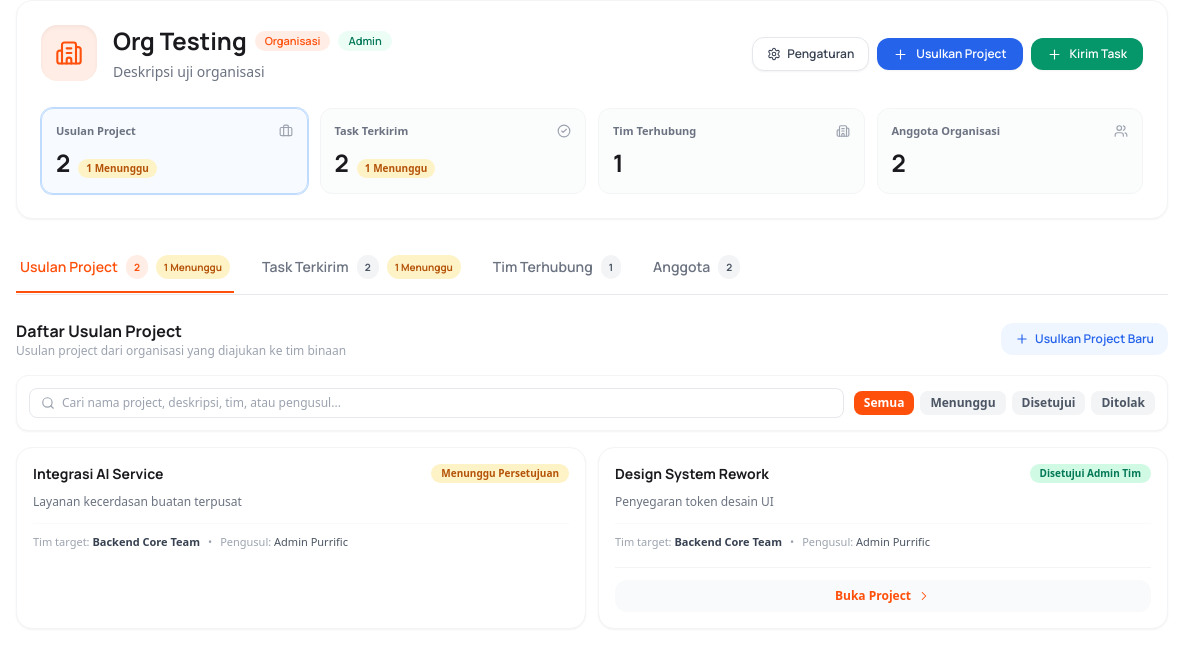
Test: OrganizationPage › renders organization details with interactive KPI cards and tabs
The width and height of the screenshot is (1185, 649).
Expected: the heading "Org Testing" is shown, [113,25,247,57]
Expected: the text "Deskripsi uji organisasi" is shown, [113,62,264,81]
Klik KPI Task Terkirim untuk beralih tab
Click the button with aria-label "Lihat Task Terkirim" at (371, 130), box [320,108,586,194]
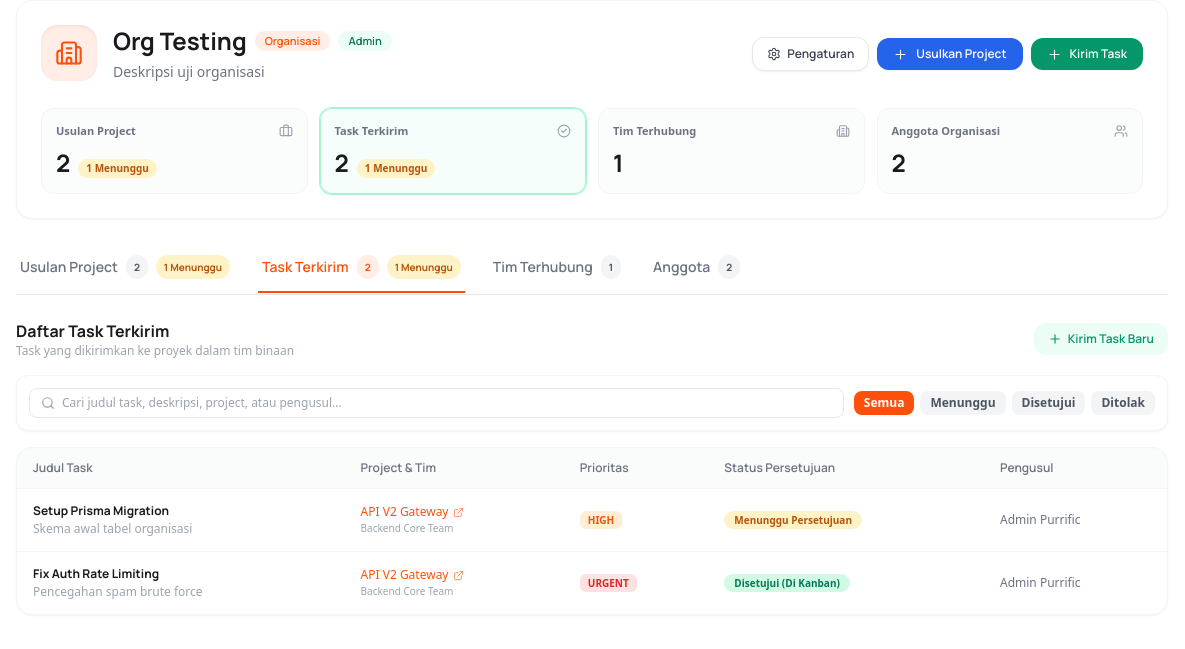
Expected: the heading "Daftar Task Terkirim" is shown, [16,320,169,342]
Expected: the text "Setup Prisma Migration" is shown, [33,502,169,519]
Expected: the text "Fix Auth Rate Limiting" is shown, [33,565,159,582]
Klik KPI Tim Terhubung
Click the button with aria-label "Lihat Tim Terhubung" at (655, 130), box [598,108,864,194]
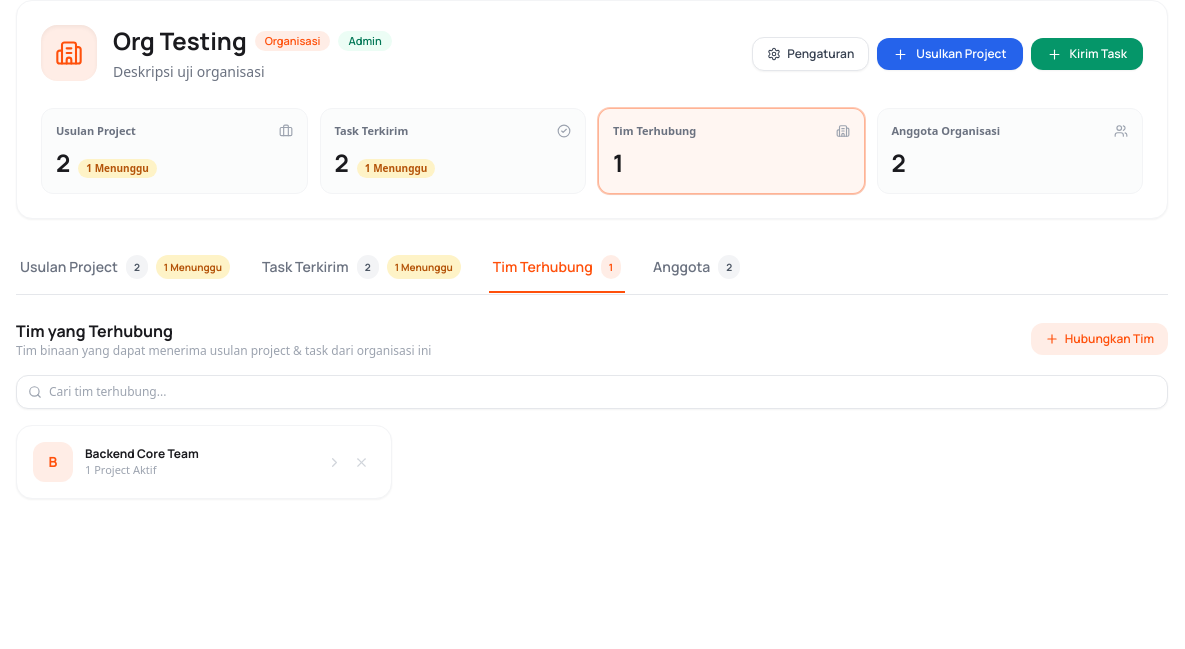
Expected: the text "Backend Core Team" is shown, [85,446,199,462]
Expected: the text "1 Project Aktif" is shown, [85,462,156,477]
Klik KPI Anggota Organisasi
Click the button with aria-label "Lihat Anggota Organisasi" at (946, 130), box [876,108,1143,194]
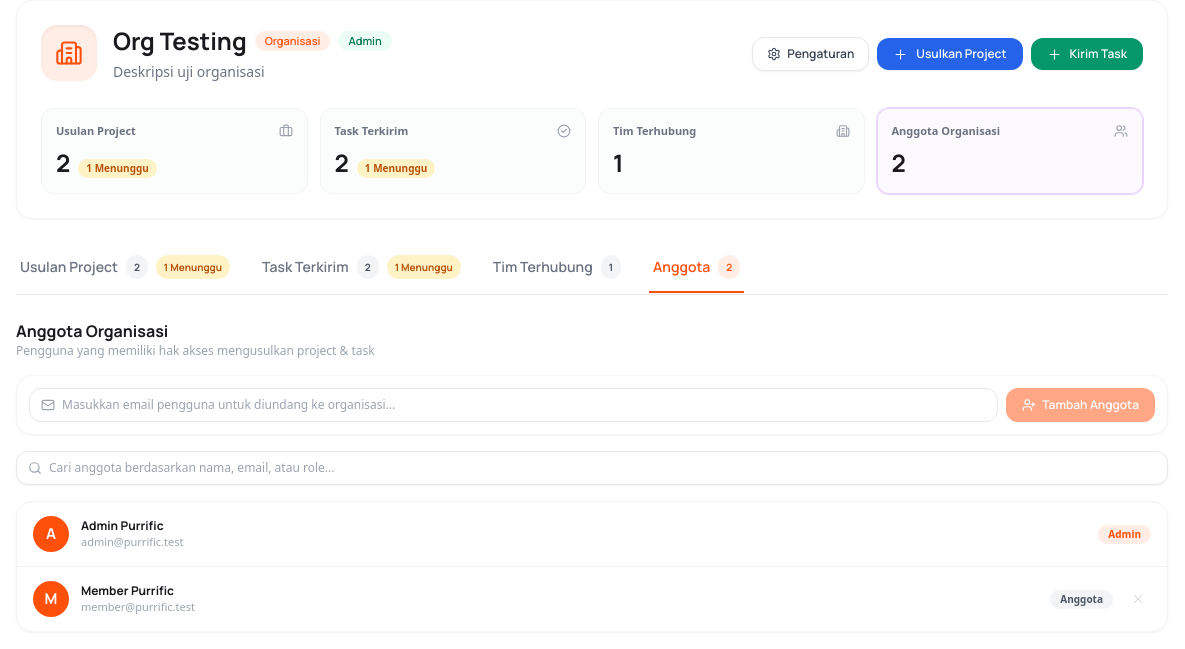
Expected: the text "Admin Purrific" is shown, [81,517,164,534]
Expected: the text "Member Purrific" is shown, [81,582,174,599]
